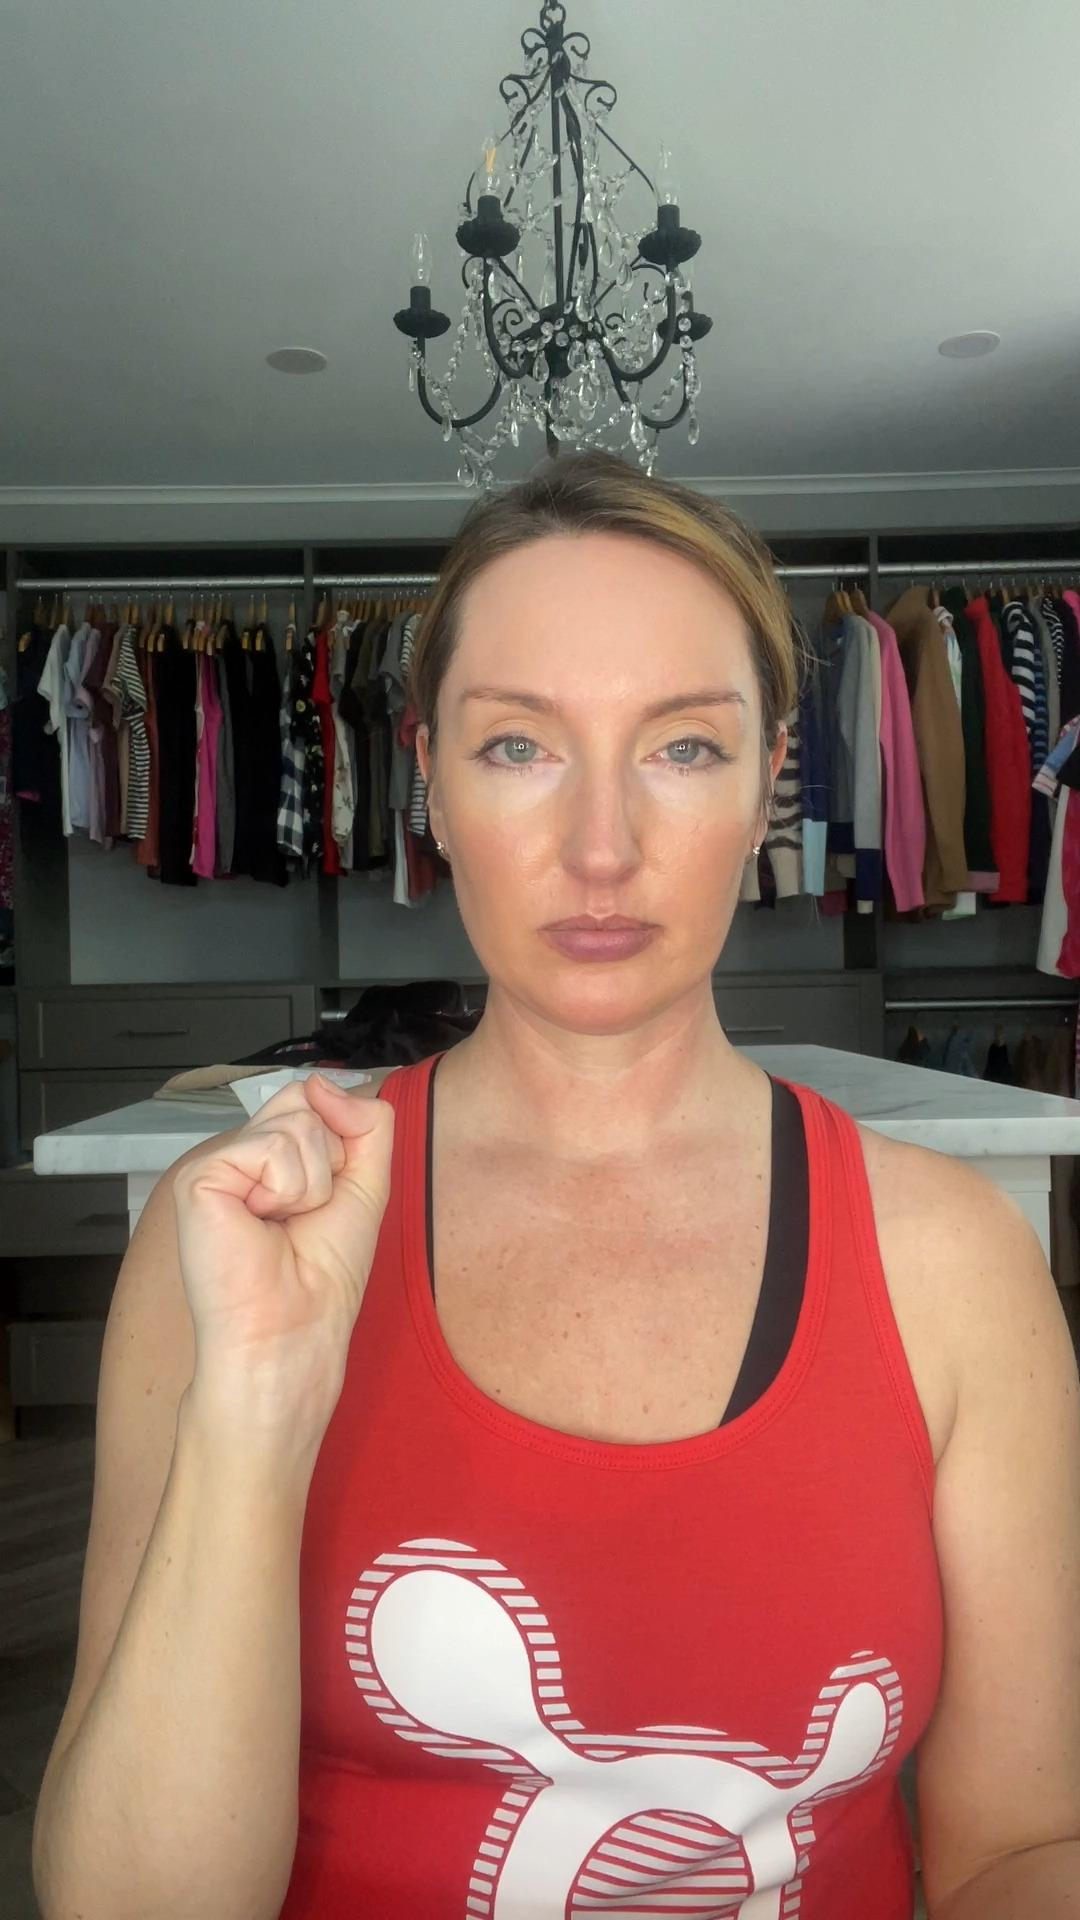Rock: (170, 1067, 398, 1386)
